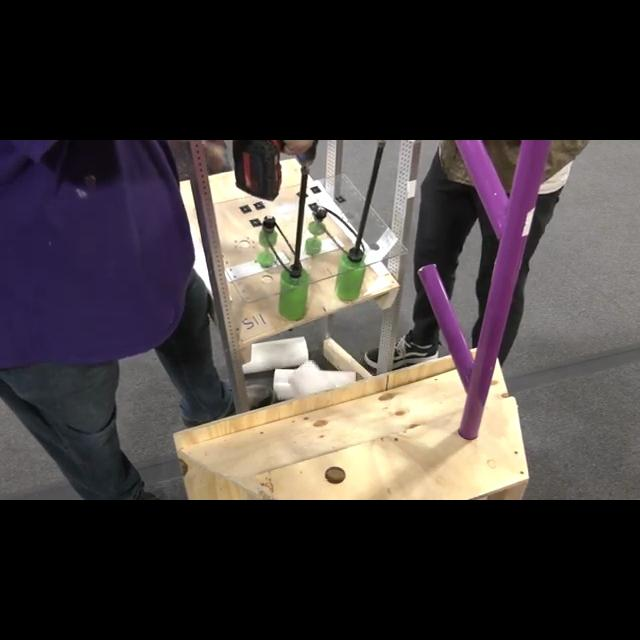CORAL: (242, 338, 310, 374), (273, 368, 355, 396)
